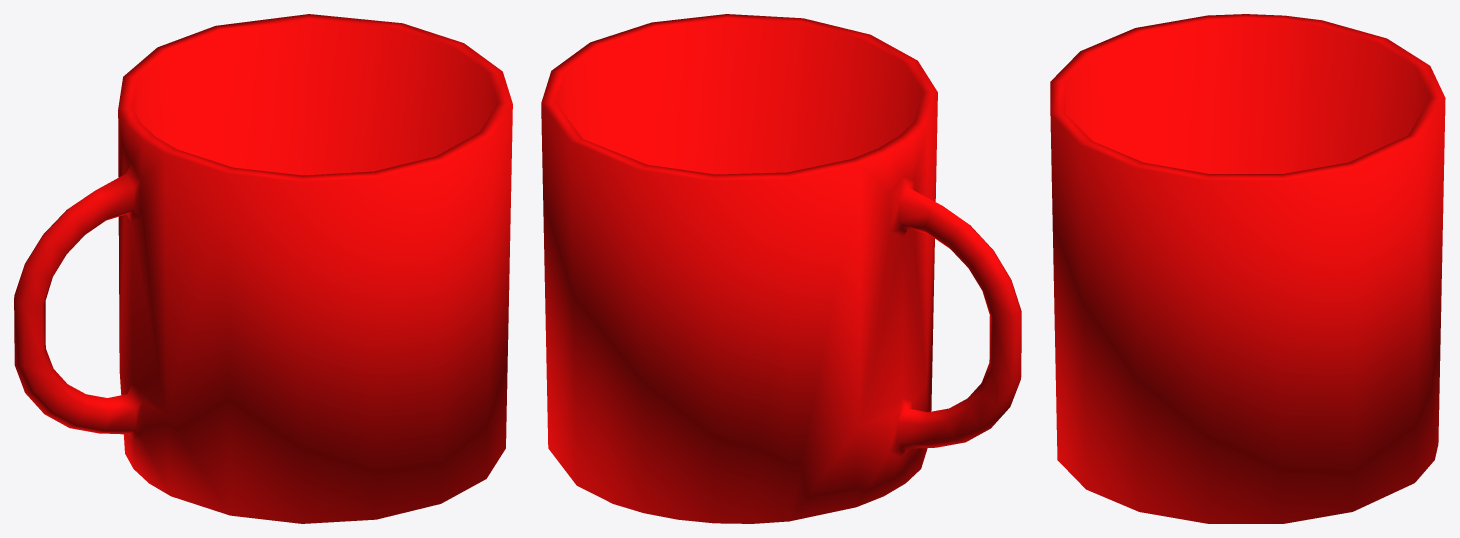
Rendered from mugred.glb.
The picture shows the model from 3 angles, left to right: view 1: azimuth 30°, elevation 25°; view 2: azimuth 150°, elevation 25°; view 3: azimuth 270°, elevation 25°; orthographic projection.
Parts seen in each view (by area): view 1: mugred; view 2: mugred; view 3: mugred.
Part boxes in pixels (left/top/right/bottom): mugred: left=14, top=14, right=512, bottom=523; mugred: left=541, top=14, right=1021, bottom=523; mugred: left=1050, top=14, right=1445, bottom=523.
Size of the model in its own units: 0.1831 by 0.1316 by 0.1356.
1 material, 1 textured.
